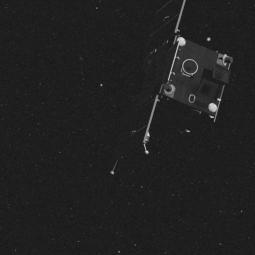proba_2: (102, 5, 236, 185)
